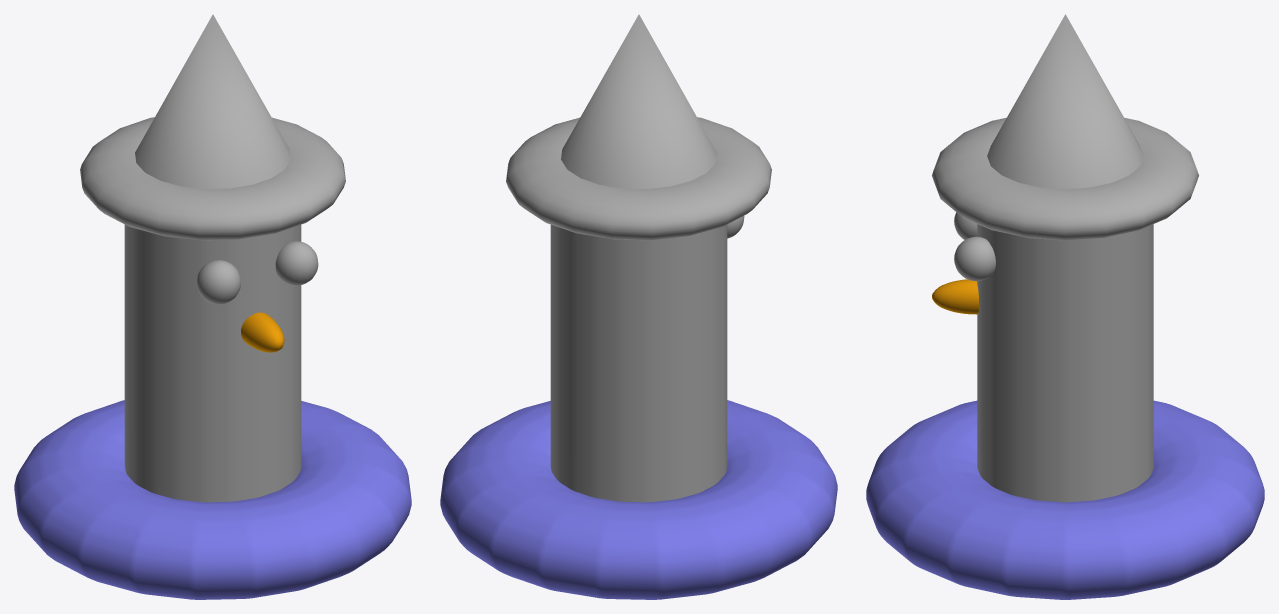
The model's file is PlayerType1.fbx.
3 renders of one model, left to right at view 1: azimuth 30°, elevation 25°; view 2: azimuth 150°, elevation 25°; view 3: azimuth 270°, elevation 25°, orthographic.
Parts seen in each view (by area): view 1: polySurface4; view 2: polySurface4; view 3: polySurface4.
Part boxes in pixels (<box>): polySurface4: <box>14,14,411,599</box>; polySurface4: <box>440,14,837,599</box>; polySurface4: <box>866,14,1264,599</box>.
Bounding box in the file's own units: 4.47 × 6.45 × 4.47.
